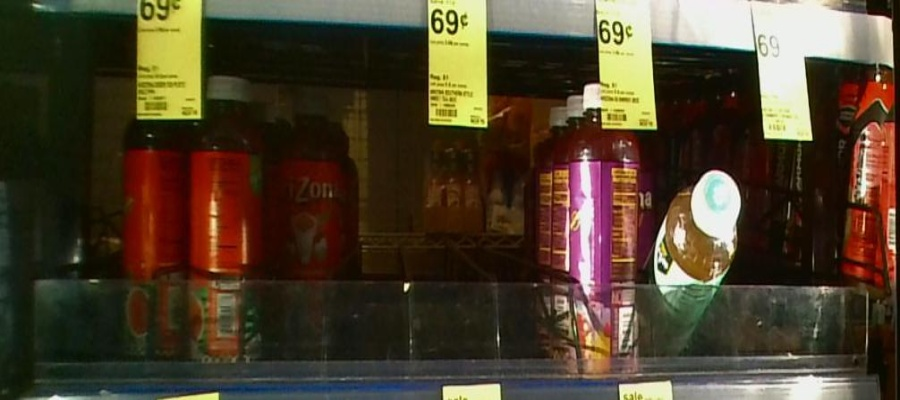bottle: (189, 64, 261, 373), (570, 80, 639, 388), (123, 67, 186, 364), (278, 68, 341, 363), (658, 165, 740, 363)
